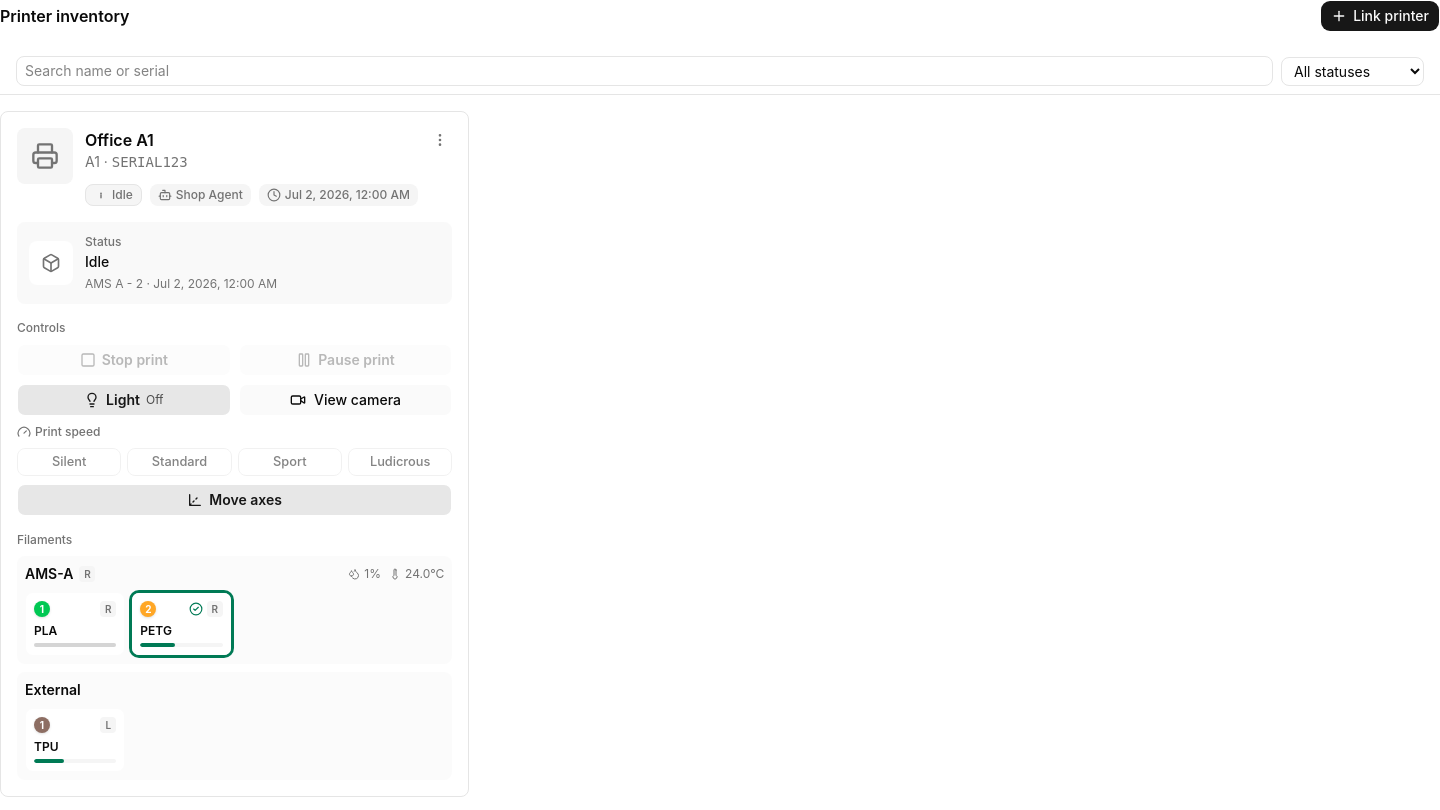
Test: PrinterInventory › renders unsupported AMS remaining estimates as unsupported with a gray progress bar
Click the button with aria-label "AMS-A slot 1, PLA, Remaining: Unsupported".
click(75, 624)  # box [25, 592, 125, 656]
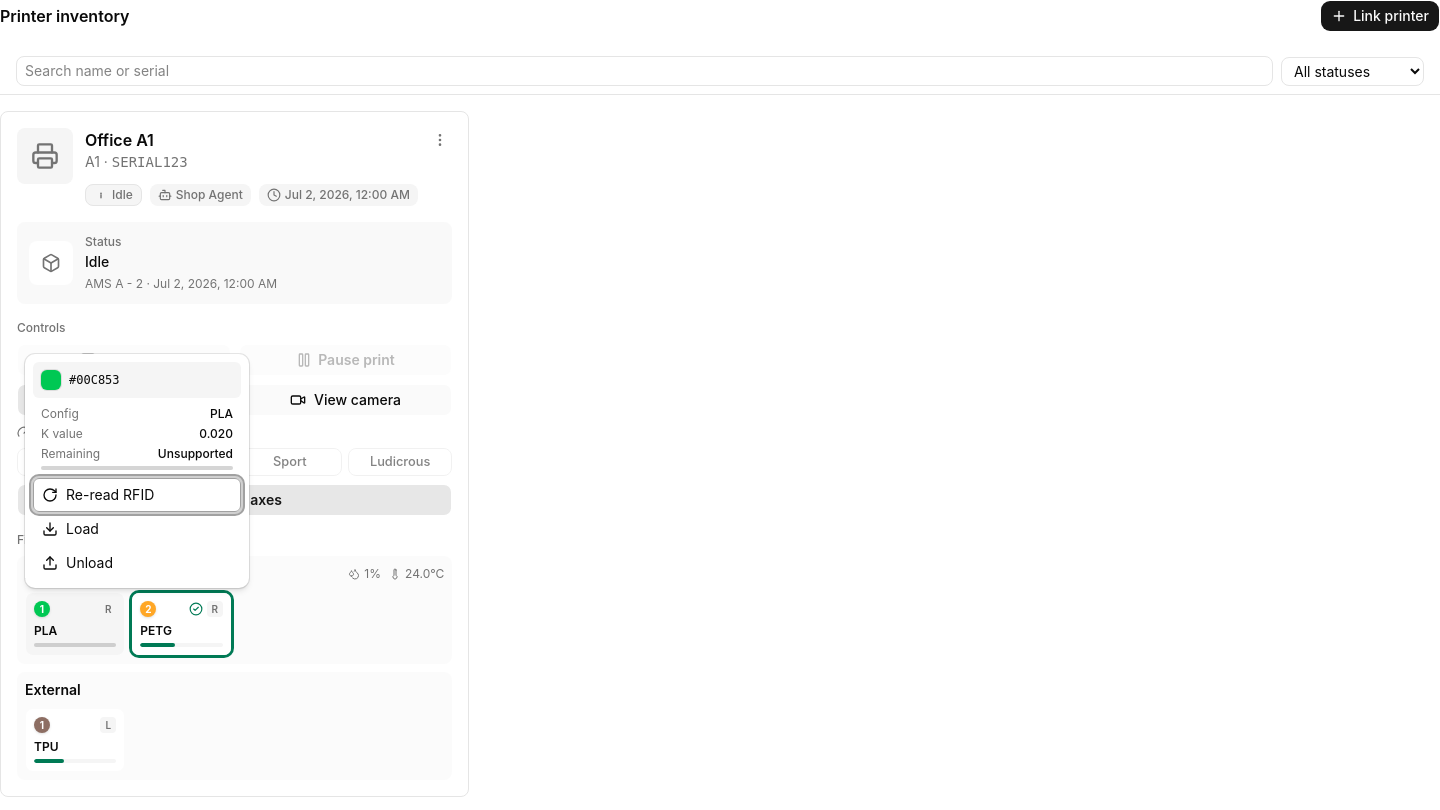
Expected: the text "Unsupported" is shown, [158, 446, 233, 462]
